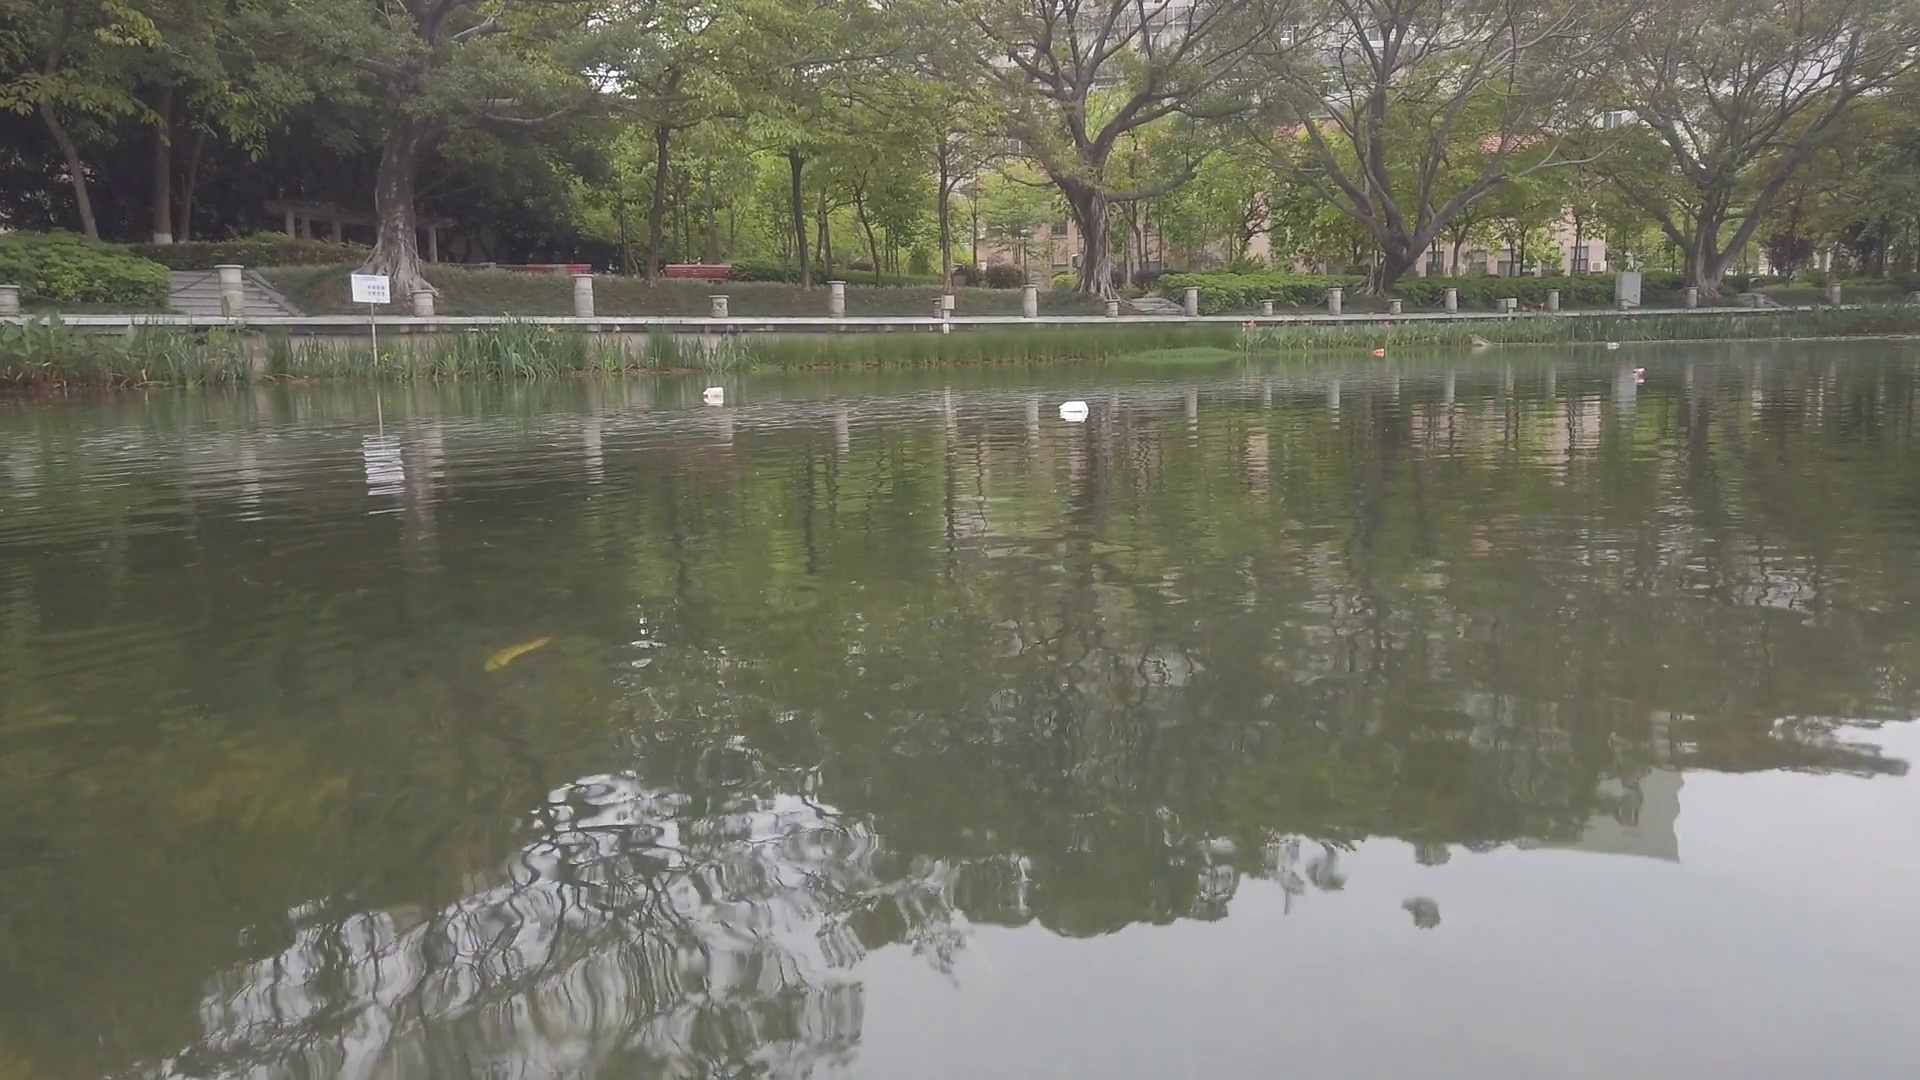bottle: (1607, 342, 1623, 351), (1370, 348, 1385, 353)
carton: (1060, 404, 1093, 414), (702, 388, 723, 396), (1633, 367, 1644, 376)
